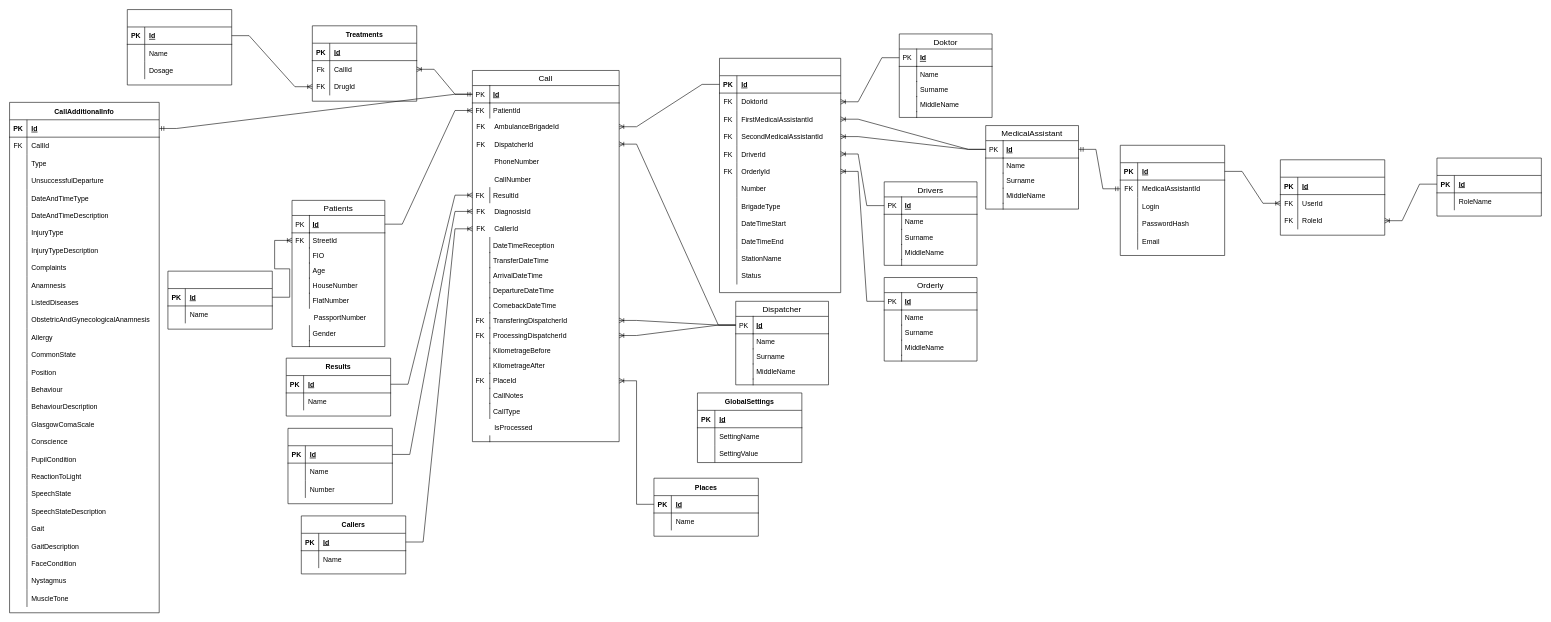
The diagram is 1551 pixels wide and 622 high, and some of its shapes have lost their labels. The box of each missing label's shape, as (x1, y1, x2, y2) in pixels:
AmbulanceBrigade: (719, 58, 841, 293)
Diagnosies: (287, 428, 392, 504)
Drugs: (127, 9, 232, 85)
Roles: (1436, 157, 1541, 216)
Streets: (167, 271, 272, 329)
UserRoles: (1280, 159, 1385, 235)
Users: (1120, 145, 1225, 255)
